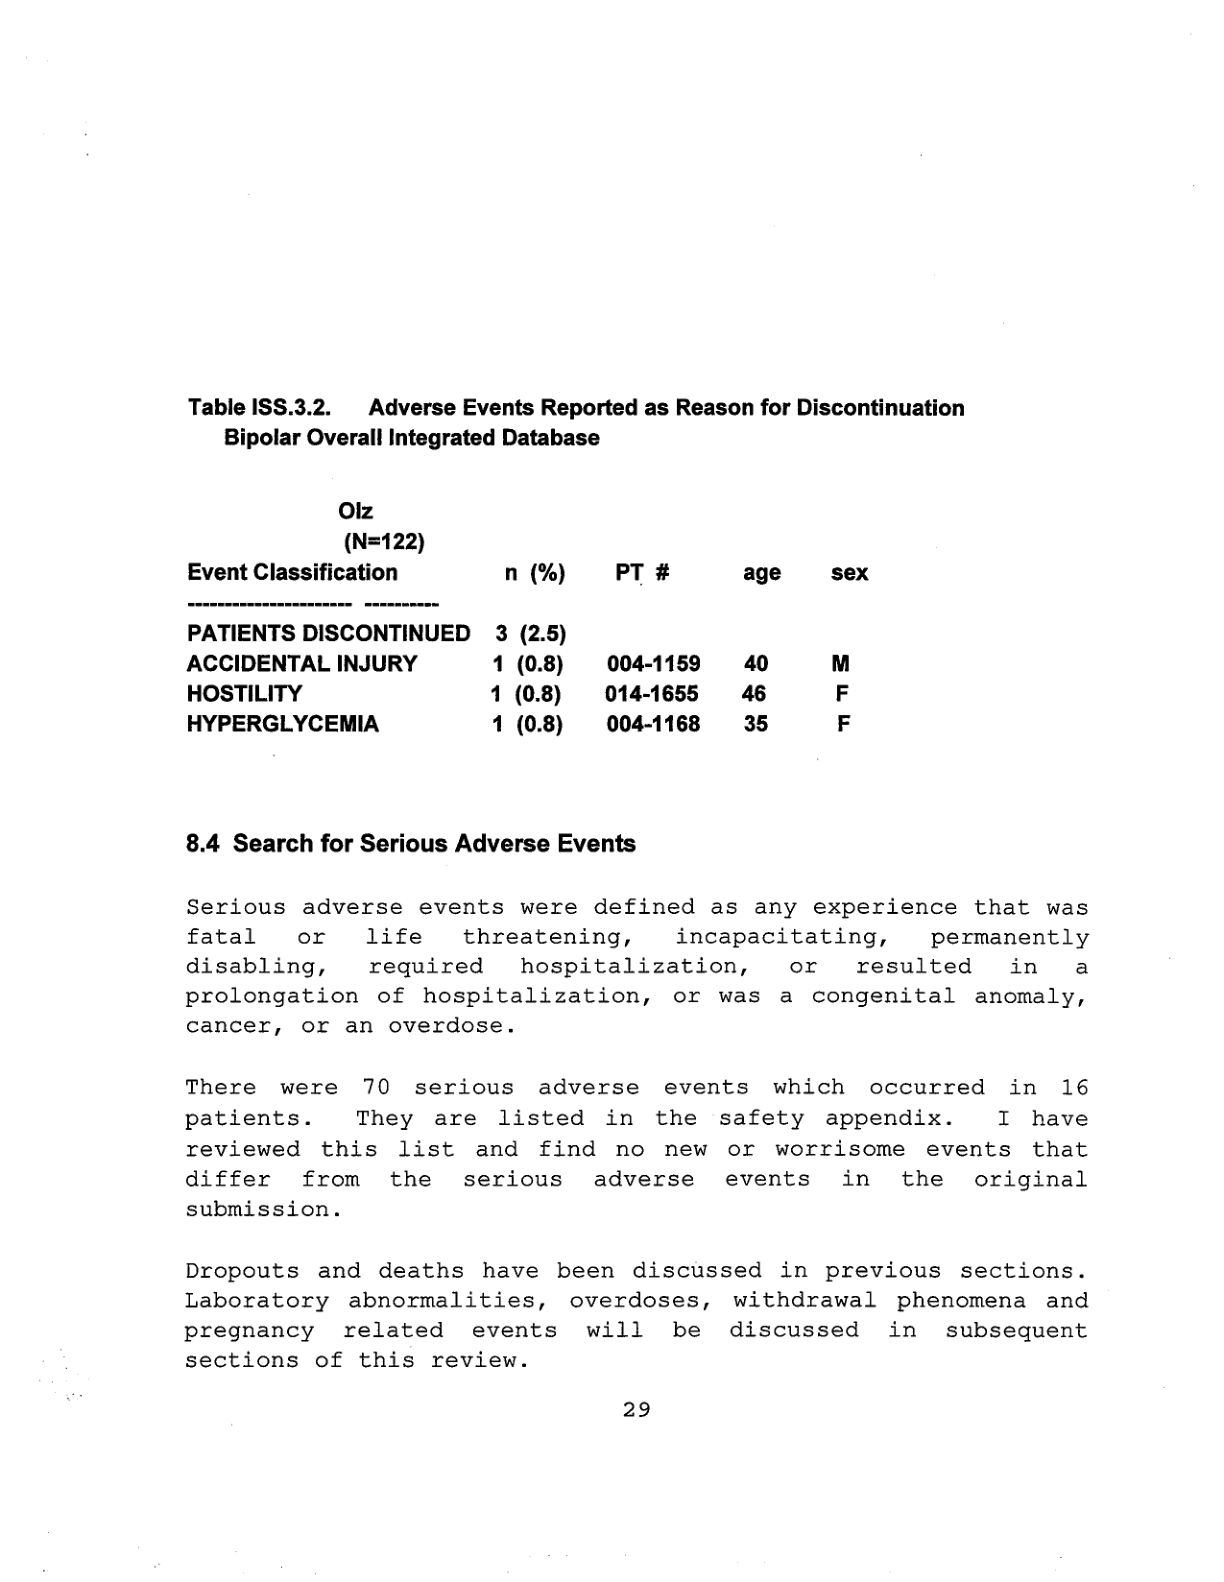nolines: (180, 500, 873, 738)
